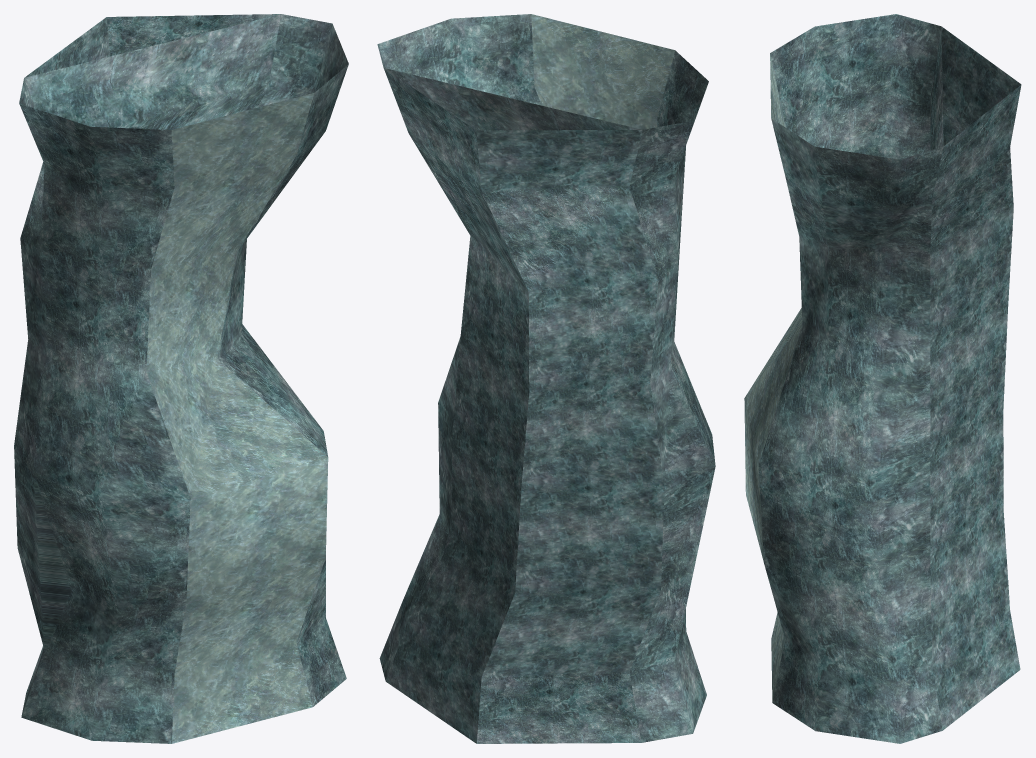
The model's file is rv_mod_tem_tunnel_straight.obj.
3 renders of one model, left to right at view 1: azimuth 30°, elevation 25°; view 2: azimuth 150°, elevation 25°; view 3: azimuth 270°, elevation 25°, orthographic. The views are drawn at different scales.
Parts seen in each view (by area): view 1: rv_mod_tem_tunnel_straight; view 2: rv_mod_tem_tunnel_straight; view 3: rv_mod_tem_tunnel_straight.
Boxes of the visible parts, box(x1,y1,x2,y2) form: rv_mod_tem_tunnel_straight: box(14, 14, 348, 743); rv_mod_tem_tunnel_straight: box(377, 14, 715, 743); rv_mod_tem_tunnel_straight: box(744, 14, 1021, 743).
Bounding box in the file's own units: 13.02 × 24.1 × 10.3.
Materials: 4 (4 with a texture image).
